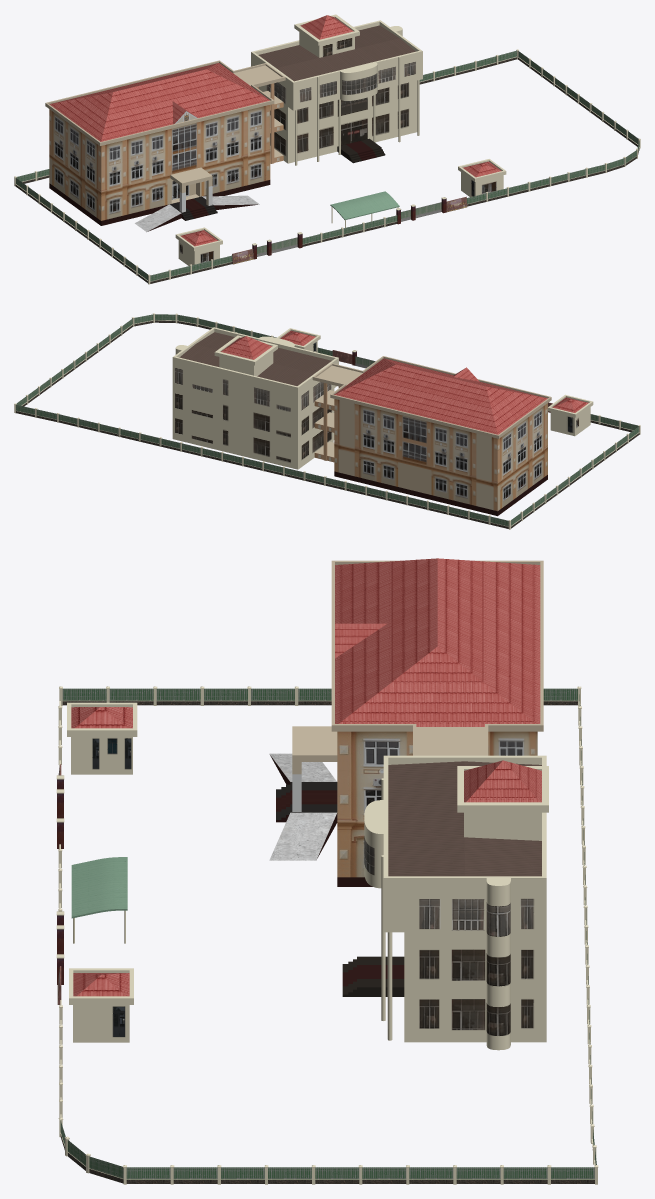
The model's file is Cuc Thong Ke.glb.
3 renders of one model, top to bottom at view 1: azimuth 30°, elevation 25°; view 2: azimuth 150°, elevation 25°; view 3: azimuth 270°, elevation 25°, orthographic. The views are drawn at different scales.
Parts seen in each view (by area): view 1: BPH056_2, BPH056_3, Object006, Object006.002, Object006.001, Object006.003; view 2: BPH056_2, BPH056_3, Object006, Object006.001, Object006.002; view 3: BPH056_2, BPH056_3, Object006, Object006.001, Object006.002, Object006.003.
Boxes of the visible parts, box(x1,y1,x2,y2) form: BPH056_2: box(45, 60, 285, 231); BPH056_3: box(251, 14, 422, 165); Object006: box(14, 49, 640, 284); Object006.002: box(458, 159, 506, 197); Object006.001: box(175, 227, 222, 265); Object006.003: box(330, 191, 399, 227); BPH056_2: box(312, 356, 551, 516); BPH056_3: box(172, 327, 338, 469); Object006: box(14, 313, 640, 529); Object006.001: box(548, 394, 593, 436); Object006.002: box(277, 328, 320, 352); BPH056_2: box(269, 558, 543, 886); BPH056_3: box(342, 755, 548, 1050); Object006: box(56, 686, 598, 1184); Object006.001: box(67, 702, 137, 774); Object006.002: box(69, 968, 133, 1042); Object006.003: box(71, 857, 127, 943).
Size of the model in its own units: 83.5 by 17.9 by 39.8.
Materials: 3 (3 with a texture image).
